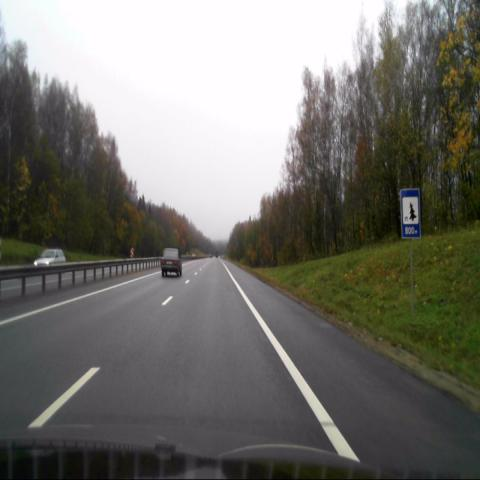7_11: (401, 191, 421, 239)
